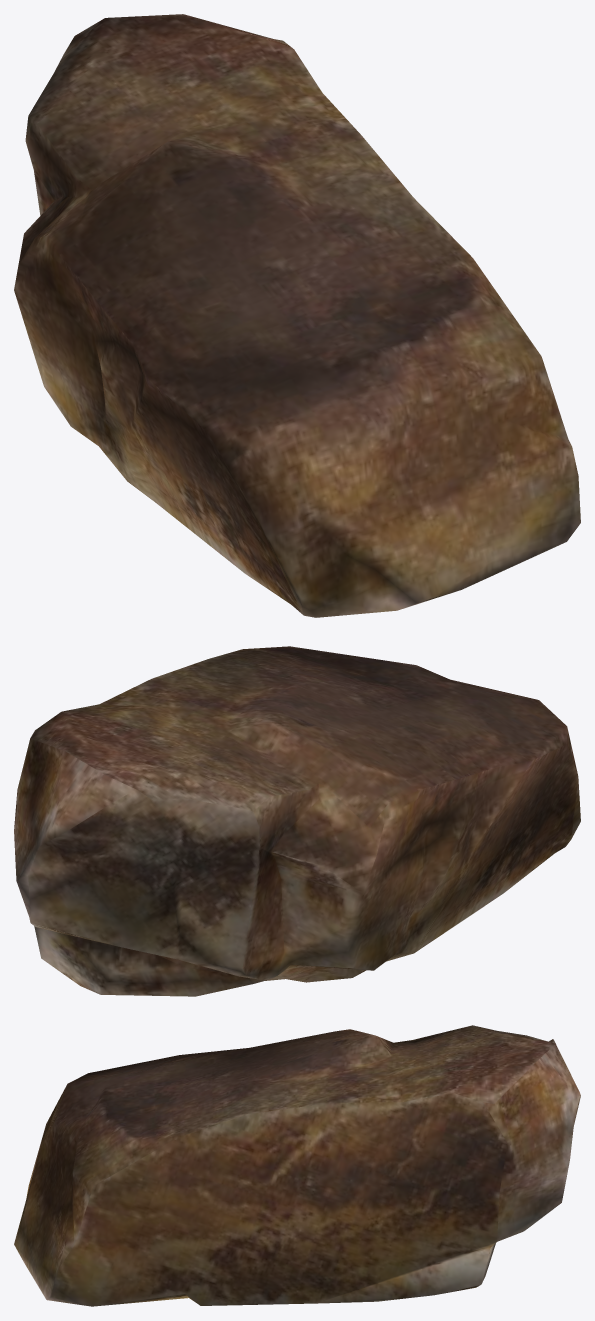
The model's file is rock-07.glb.
The picture shows the model from 3 angles, top to bottom: view 1: azimuth 30°, elevation 25°; view 2: azimuth 150°, elevation 25°; view 3: azimuth 270°, elevation 25°; orthographic projection. The views are drawn at different scales.
Visible parts, largest first — view 1: rock_07; view 2: rock_07; view 3: rock_07.
Boxes of the visible parts, x1=… form: rock_07: x1=14, y1=14, x2=580, y2=617; rock_07: x1=14, y1=646, x2=580, y2=996; rock_07: x1=14, y1=1025, x2=580, y2=1306.
Size of the model in its own units: 0.1671 by 0.14 by 0.3194.
Materials: 1 (1 with a texture image).
